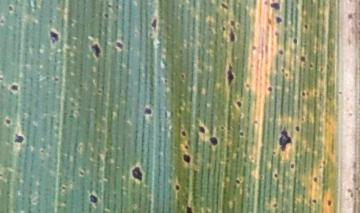tarspot: (278, 130, 294, 152), (130, 166, 145, 184), (226, 64, 236, 88), (48, 30, 60, 47), (90, 43, 101, 58), (13, 133, 24, 144), (88, 194, 99, 204), (270, 2, 281, 12), (115, 41, 124, 52), (229, 30, 236, 43), (182, 154, 191, 164), (209, 137, 218, 147), (150, 18, 157, 30), (9, 84, 19, 92), (144, 106, 152, 115), (275, 16, 283, 24), (235, 100, 242, 109), (221, 3, 230, 10), (185, 206, 193, 213), (199, 127, 206, 134), (229, 21, 236, 28), (8, 5, 14, 13), (5, 118, 11, 126), (301, 91, 310, 96), (174, 185, 181, 191), (289, 162, 295, 169), (80, 170, 87, 176), (103, 13, 109, 19), (180, 131, 186, 137), (235, 178, 241, 184), (300, 56, 306, 62), (239, 131, 244, 138), (272, 203, 278, 208), (327, 200, 332, 206), (272, 150, 277, 156), (295, 126, 300, 132), (179, 74, 185, 79), (253, 120, 259, 125), (292, 38, 298, 43), (322, 160, 327, 166), (222, 26, 226, 33), (1, 18, 5, 25), (313, 177, 318, 182), (54, 77, 59, 82), (303, 24, 308, 29), (309, 64, 314, 69), (184, 144, 188, 150), (311, 199, 317, 203), (61, 186, 67, 190), (245, 84, 251, 88), (268, 87, 274, 91), (278, 50, 284, 54), (251, 46, 256, 50), (275, 32, 279, 37), (313, 92, 318, 96), (280, 68, 284, 72), (285, 73, 288, 77), (274, 174, 277, 177)
